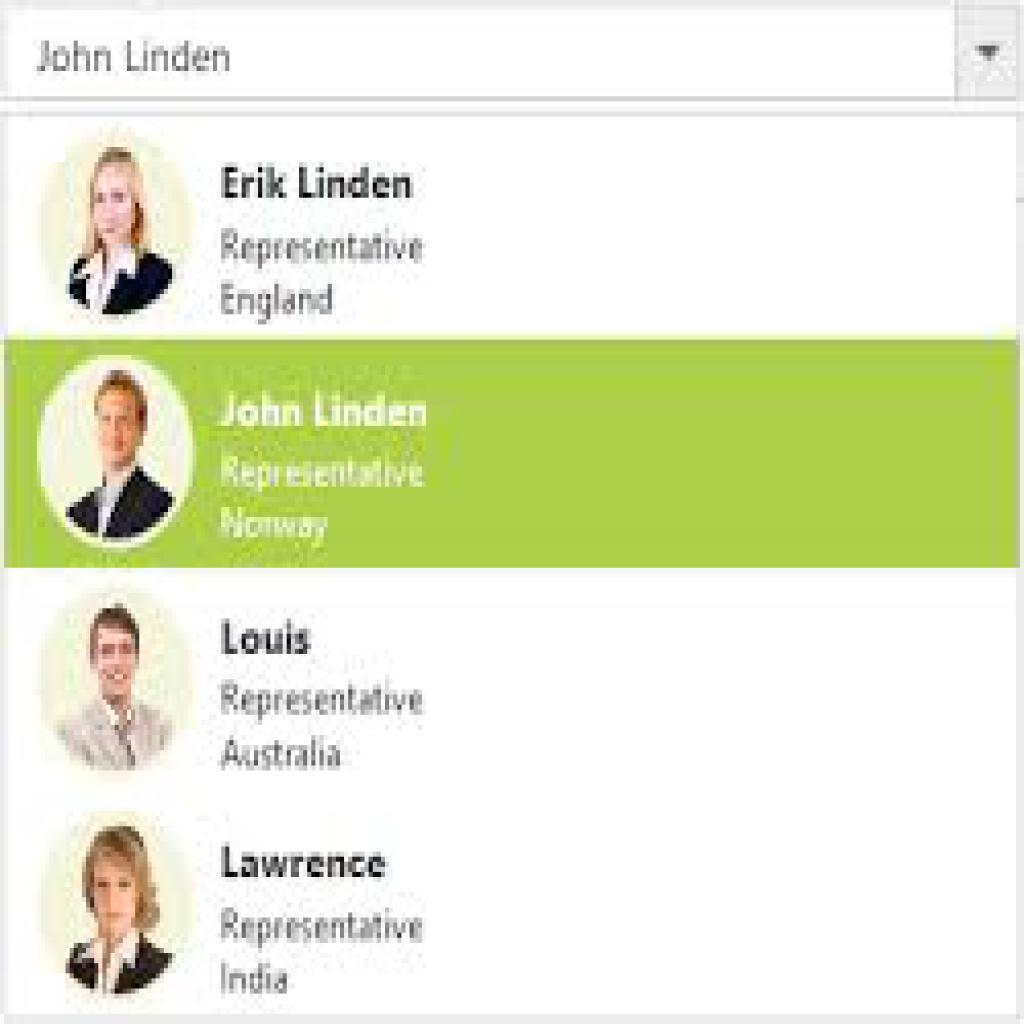dropdown: (1, 2, 1024, 102)
